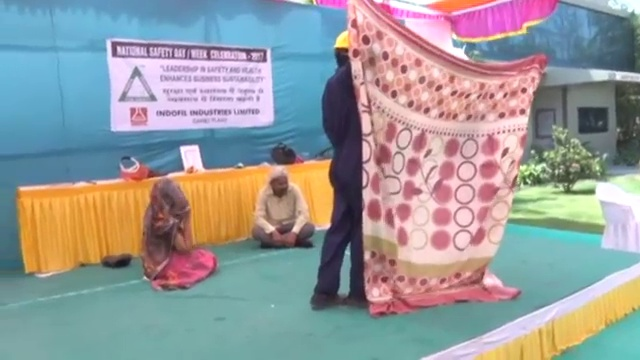helmet: (333, 29, 351, 52)
helmet_off: (152, 178, 190, 215), (268, 167, 290, 198)
helmet_on: (331, 27, 356, 68)
person: (309, 27, 371, 313), (136, 178, 216, 289), (246, 167, 316, 250)
